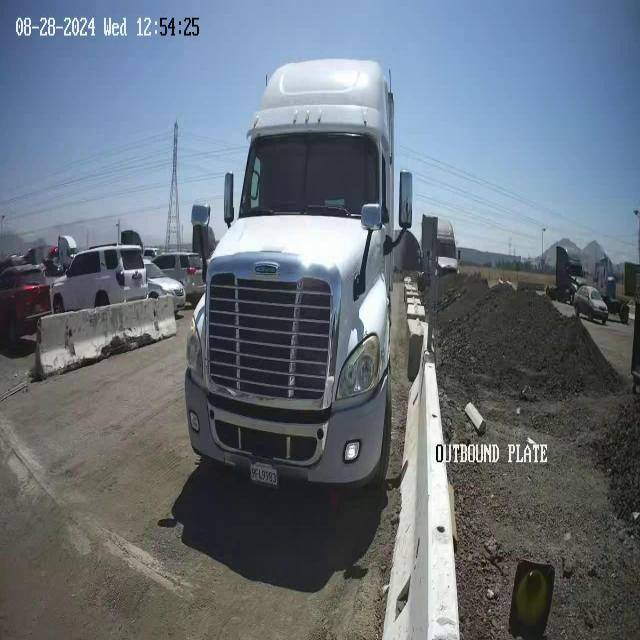TRUCK_IN: (184, 57, 413, 496)
